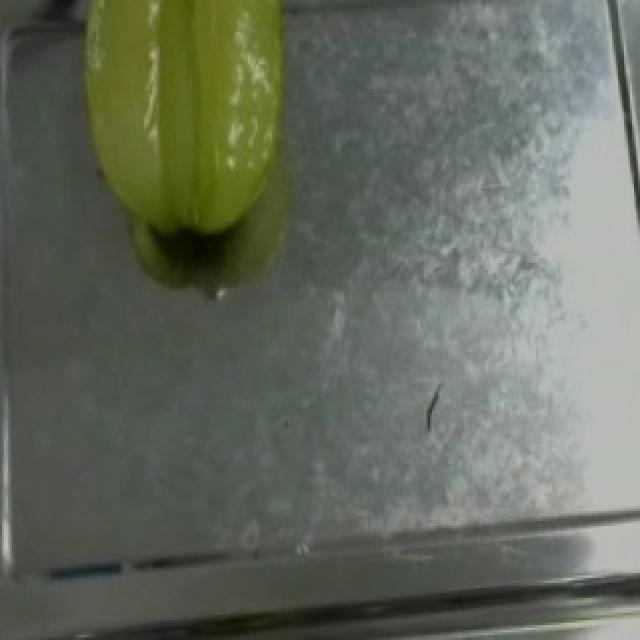fruit: (42, 0, 322, 258)
